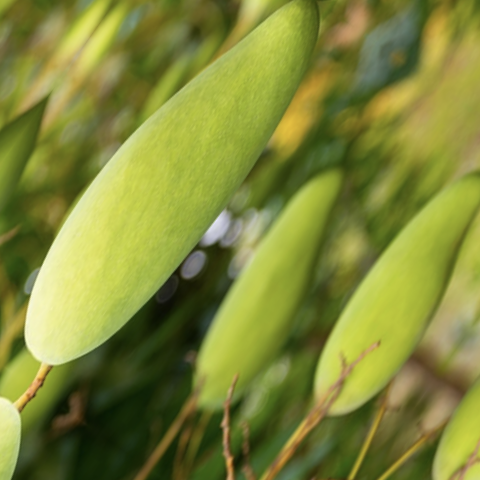mango: (0, 0, 369, 420), (148, 134, 406, 441), (279, 142, 480, 448)
